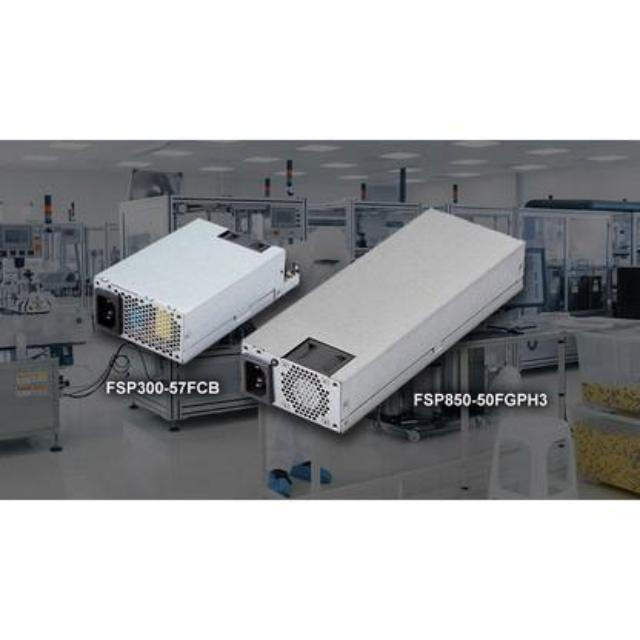PSU: (237, 203, 543, 445), (79, 214, 308, 366)
